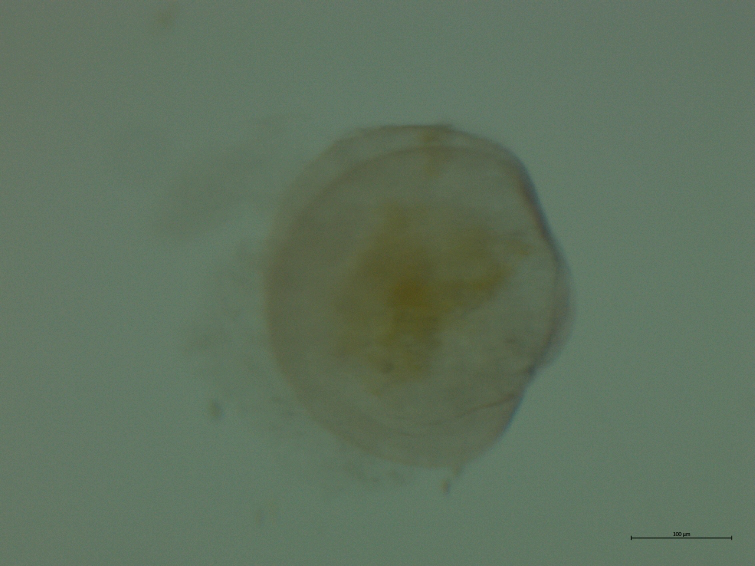oyster: (243, 109, 588, 494)
